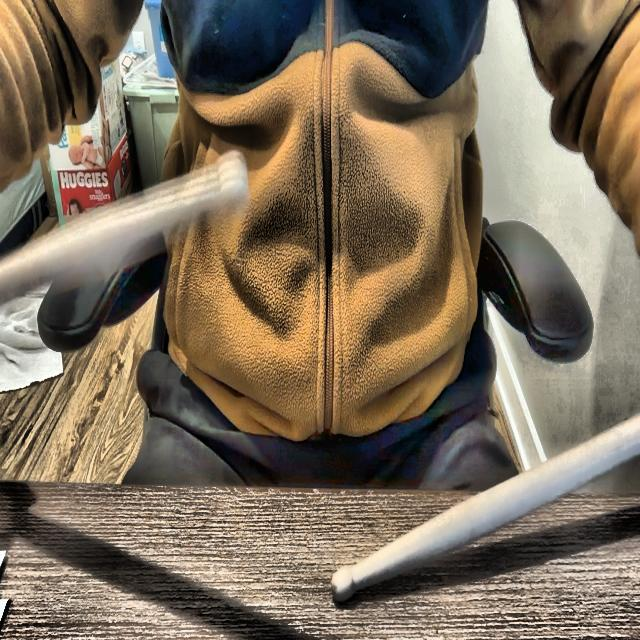Drumstick-Heads: (217, 145, 250, 216), (327, 555, 355, 609)
